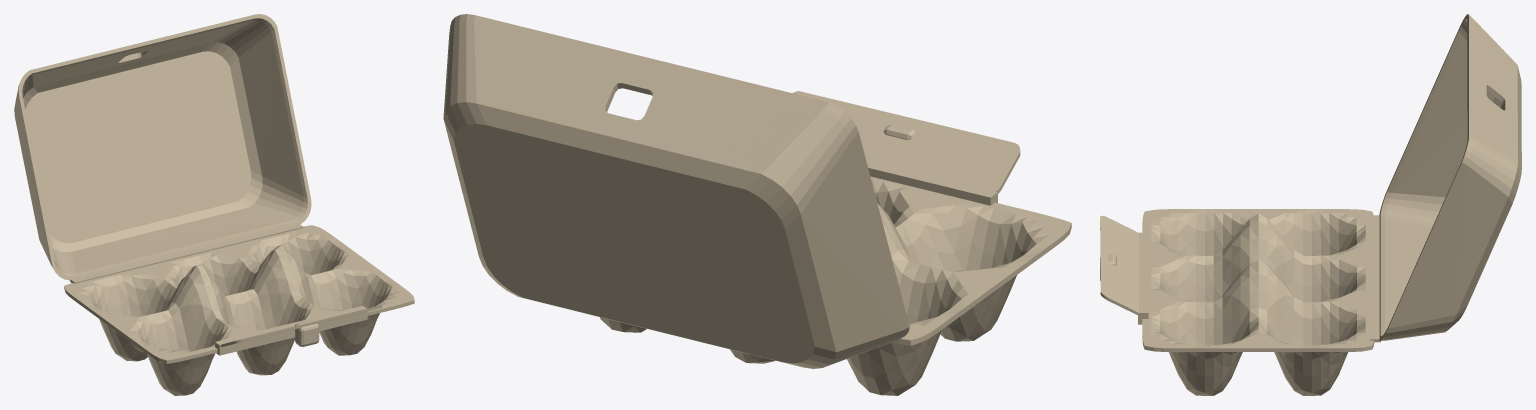
3 views of the same model, side by side, from view 1: azimuth 30°, elevation 25°; view 2: azimuth 150°, elevation 25°; view 3: azimuth 270°, elevation 25° (orthographic). The views are drawn at different scales.
Visible parts, largest first — view 1: Hollow hinged lid with catch opening, Six well molded body with full underside, Front living hinge fold, Rear living hinge fold, Front folding closure flap, Raised closure catch; view 2: Hollow hinged lid with catch opening, Six well molded body with full underside, Front folding closure flap, Front living hinge fold; view 3: Six well molded body with full underside, Hollow hinged lid with catch opening, Front folding closure flap, Rear living hinge fold, Front living hinge fold.
Boxes of the visible parts, x1,y1,x2,y2 form: Hollow hinged lid with catch opening: (14, 14, 311, 280); Six well molded body with full underside: (64, 225, 414, 395); Front living hinge fold: (215, 306, 367, 355); Rear living hinge fold: (70, 224, 303, 283); Front folding closure flap: (220, 305, 381, 347); Raised closure catch: (295, 320, 319, 346); Hollow hinged lid with catch opening: (443, 14, 909, 368); Six well molded body with full underside: (599, 176, 1071, 395); Front folding closure flap: (792, 91, 1020, 193); Front living hinge fold: (866, 160, 997, 205); Six well molded body with full underside: (1142, 209, 1374, 395); Hollow hinged lid with catch opening: (1379, 14, 1521, 340); Front folding closure flap: (1100, 215, 1138, 314); Rear living hinge fold: (1370, 215, 1380, 342); Front living hinge fold: (1138, 232, 1148, 324).
Size of the model in its own units: 0.158 by 0.1407 by 0.1997.
